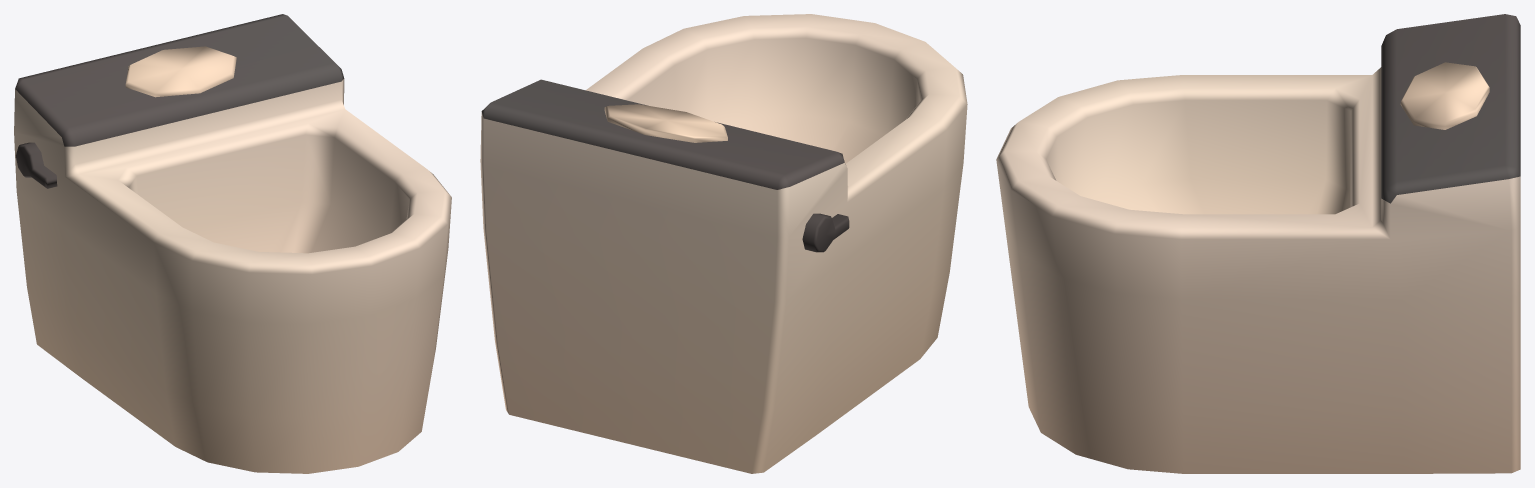
File: Furniture_Bathroom_3.fbx
The picture shows the model from 3 angles, left to right: view 1: azimuth 30°, elevation 25°; view 2: azimuth 150°, elevation 25°; view 3: azimuth 270°, elevation 25°; orthographic projection. The views are drawn at different scales.
Parts seen in each view (by area): view 1: Furniture_Bathroom_3; view 2: Furniture_Bathroom_3; view 3: Furniture_Bathroom_3.
Part boxes in pixels (bbox=[...]): Furniture_Bathroom_3: bbox=[14, 14, 451, 473]; Furniture_Bathroom_3: bbox=[480, 14, 967, 473]; Furniture_Bathroom_3: bbox=[996, 14, 1520, 473].
Bounding box in the file's own units: 84.78 × 76.27 × 113.
